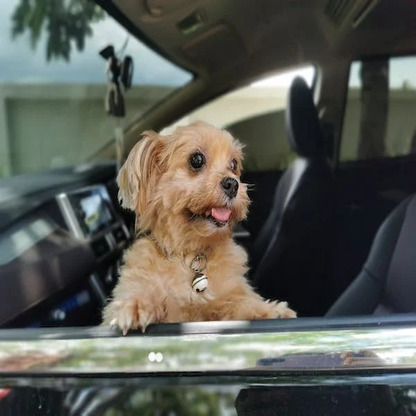yorkshire: (103, 120, 299, 337)
